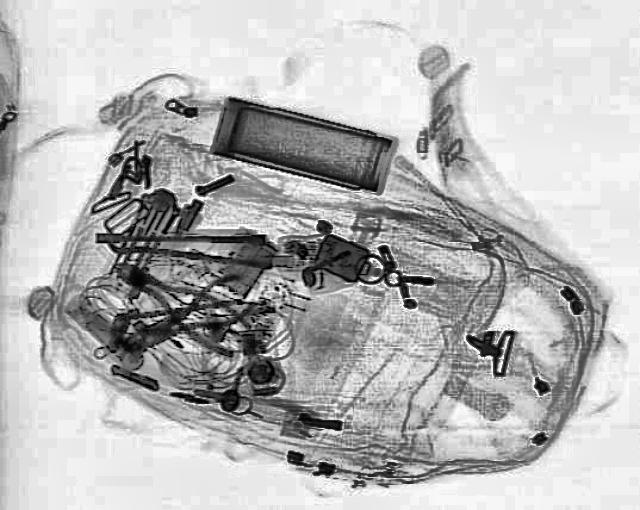Pliers: (97, 246, 266, 360), (110, 270, 264, 364)
